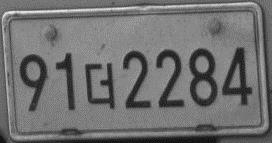1: (52, 50, 84, 113)
2: (119, 50, 152, 109), (153, 49, 186, 108)
4: (221, 46, 253, 107)
8: (187, 46, 220, 107)
9: (18, 53, 48, 112)
더: (82, 60, 116, 110)
